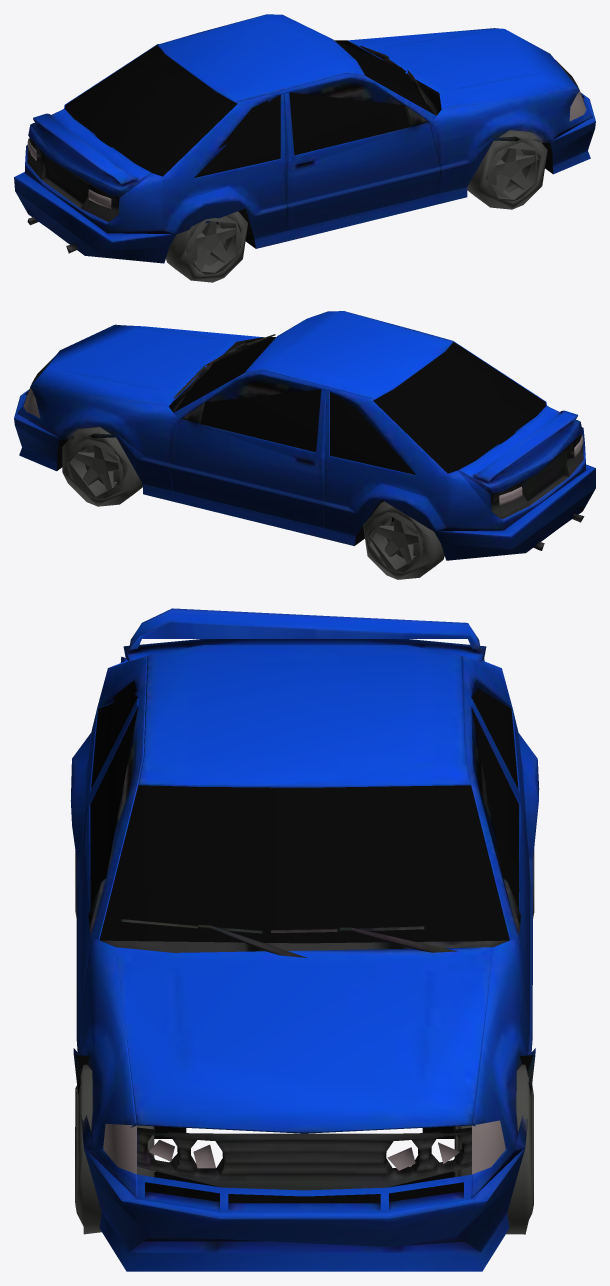
File: pc-coupe.lod1.glb
The picture shows the model from 3 angles, top to bottom: view 1: azimuth 30°, elevation 25°; view 2: azimuth 150°, elevation 25°; view 3: azimuth 270°, elevation 25°; orthographic projection. The views are drawn at different scales.
Parts seen in each view (by area): view 1: Coupe Body_Body_0, Coupe Body_Glass_0; view 2: Coupe Body_Body_0, Coupe Body_Glass_0; view 3: Coupe Body_Body_0, Coupe Body_Glass_0.
Boxes of the visible parts, x1,y1,x2,y2 form: Coupe Body_Body_0: [14, 14, 595, 263]; Coupe Body_Glass_0: [27, 41, 586, 282]; Coupe Body_Body_0: [14, 311, 595, 560]; Coupe Body_Glass_0: [23, 337, 583, 579]; Coupe Body_Body_0: [70, 608, 539, 1271]; Coupe Body_Glass_0: [75, 660, 534, 1234].
Size of the model in its own units: 4.2 by 1.25 by 1.63.
2 materials, 1 textured.
